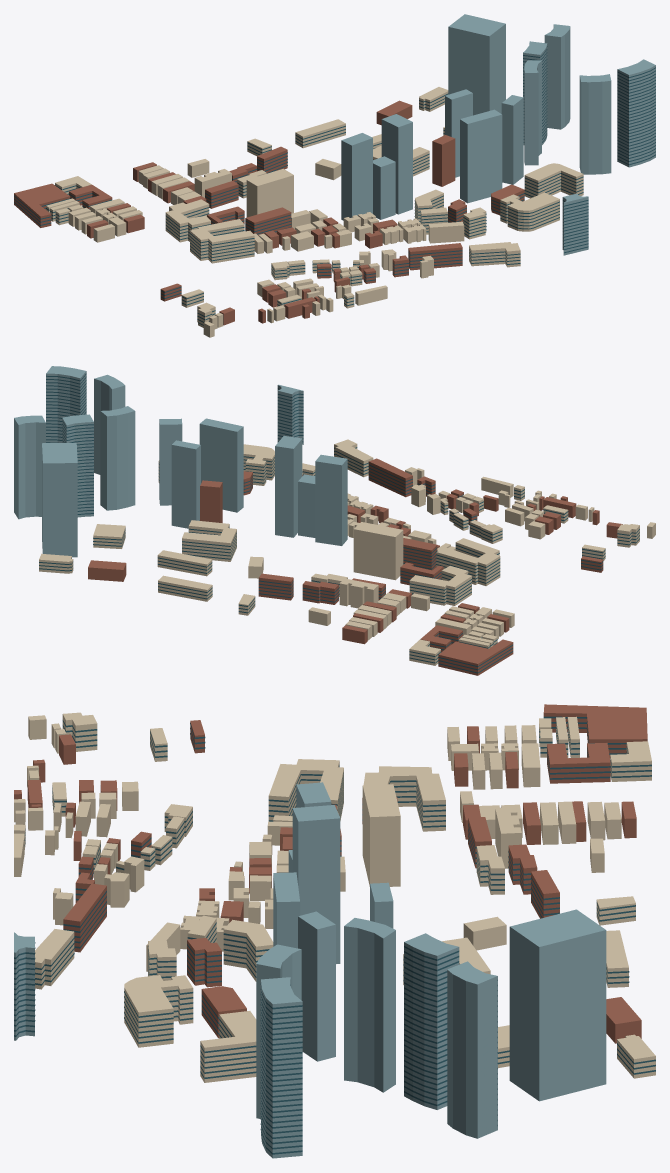
3 renders of one model, top to bottom at view 1: azimuth 30°, elevation 25°; view 2: azimuth 150°, elevation 25°; view 3: azimuth 270°, elevation 25°, orthographic. The views are drawn at different scales.
Parts seen in each view (by area): view 1: osm-way-447024799, osm-way-293563946, osm-way-447024806, osm-way-293563947, osm-way-447024820, osm-way-293563953, osm-way-447024818, osm-way-505641143, osm-way-447024804, osm-way-447024805, osm-way-505641151, osm-way-293563951 (+24 smaller); view 2: osm-way-447024799, osm-way-293563951, osm-way-447024806, osm-way-293563953, osm-way-447024820, osm-way-447024805, osm-way-447024818, osm-way-447024816, osm-way-293563946, osm-way-293563952, osm-way-505641143, osm-way-505641152 (+23 smaller); view 3: osm-way-447024799, osm-way-293563951, osm-way-293563953, osm-way-293563952, osm-way-293563946, osm-way-447024818, osm-way-447024804, osm-way-505641151, osm-way-447024805, osm-way-505641149, osm-way-1318374453, osm-way-505641154 (+31 smaller).
Part boxes in pixels (x1,y1,x2,y2): osm-way-447024799: [448, 14, 505, 115]; osm-way-293563946: [617, 59, 655, 167]; osm-way-447024806: [460, 109, 502, 203]; osm-way-293563947: [579, 74, 611, 174]; osm-way-447024820: [341, 133, 372, 220]; osm-way-293563953: [544, 24, 570, 129]; osm-way-447024818: [381, 114, 412, 214]; osm-way-505641143: [190, 219, 254, 263]; osm-way-447024804: [501, 95, 523, 184]; osm-way-447024805: [246, 168, 293, 217]; osm-way-505641151: [500, 192, 559, 231]; osm-way-293563951: [524, 60, 541, 165]; osm-way-447024799: [42, 443, 77, 557]; osm-way-293563951: [100, 406, 135, 510]; osm-way-447024806: [199, 418, 243, 512]; osm-way-293563953: [14, 415, 45, 519]; osm-way-447024820: [315, 454, 347, 545]; osm-way-447024805: [353, 522, 403, 580]; osm-way-447024818: [275, 435, 302, 537]; osm-way-447024816: [171, 440, 200, 528]; osm-way-293563946: [46, 366, 86, 442]; osm-way-293563952: [62, 414, 93, 517]; osm-way-505641143: [436, 538, 500, 585]; osm-way-505641152: [182, 520, 236, 561]; osm-way-447024799: [509, 909, 606, 1101]; osm-way-293563951: [344, 918, 395, 1092]; osm-way-293563953: [447, 961, 497, 1138]; osm-way-293563952: [404, 933, 459, 1109]; osm-way-293563946: [260, 977, 302, 1158]; osm-way-447024818: [292, 805, 340, 963]; osm-way-447024804: [298, 911, 335, 1061]; osm-way-505641151: [124, 975, 193, 1047]; osm-way-447024805: [362, 784, 400, 886]; osm-way-505641149: [200, 1011, 256, 1082]; osm-way-1318374453: [543, 704, 647, 758]; osm-way-505641154: [363, 766, 445, 831].
Bounding box in the file's own units: 719 × 119 × 449.
